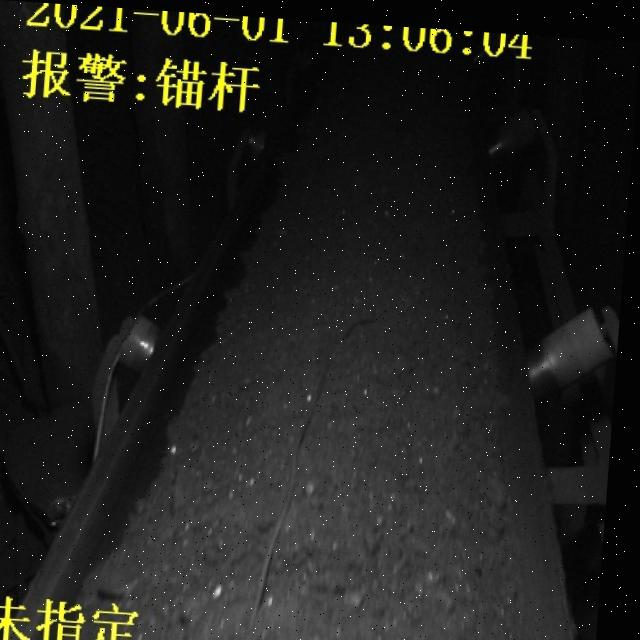bolt: (248, 303, 382, 640)
